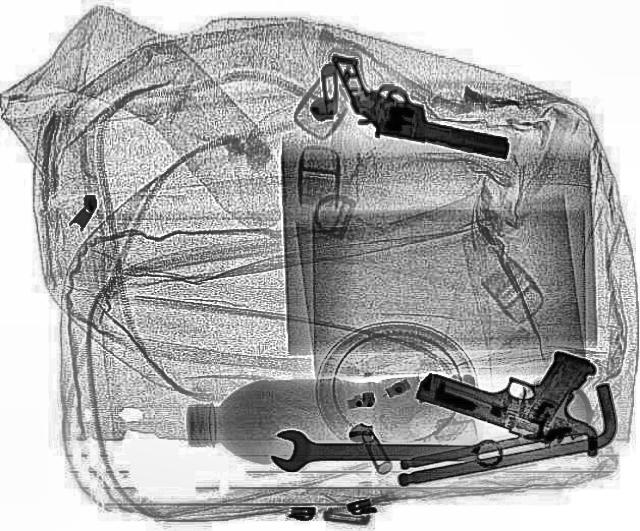Gun: (410, 319, 634, 459), (307, 54, 528, 164)
Wrench: (271, 428, 503, 472)
